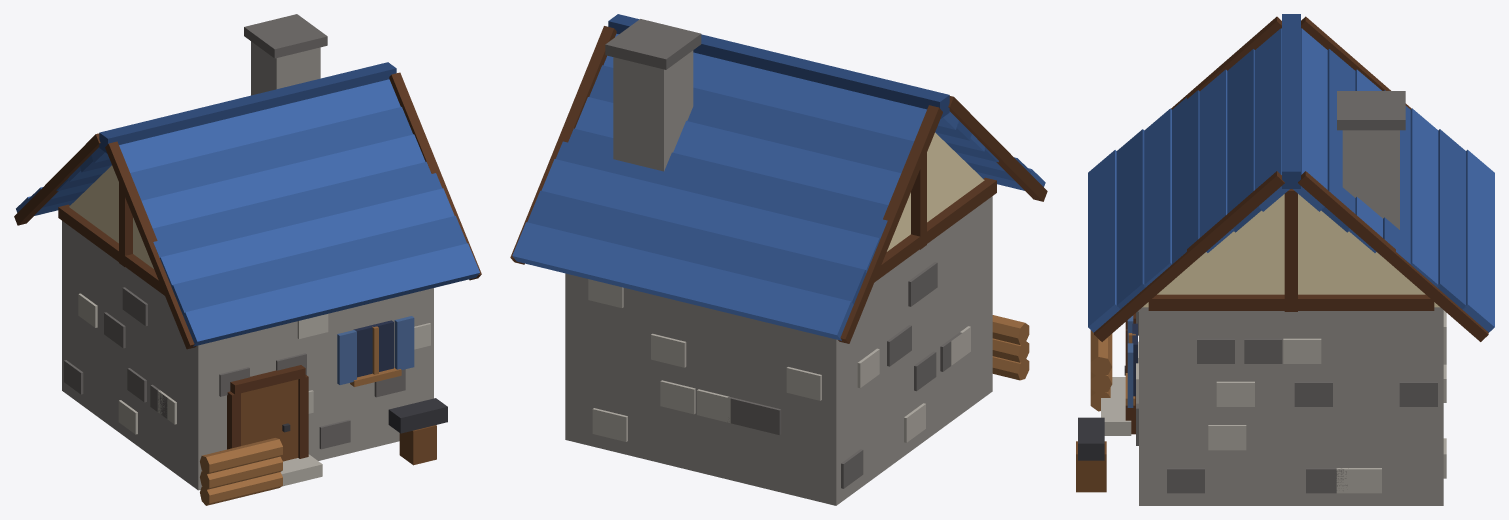
The model's file is workshop.glb.
3 views of the same model, side by side, from view 1: azimuth 30°, elevation 25°; view 2: azimuth 150°, elevation 25°; view 3: azimuth 270°, elevation 25° (orthographic). The views are drawn at different scales.
Visible parts, largest first — view 1: stone, roof_blue, roof_blue_mid, timber, stone_dark, ridge, plank, plank_dark, stone_light, plaster, shutter_blue, iron (+1 smaller); view 2: stone, roof_blue, roof_blue_mid, timber, stone_dark, stone_light, ridge, plaster, plank; view 3: stone, roof_blue, roof_blue_mid, timber, plaster, stone_dark, stone_light, ridge, plank, iron, plank_dark, shutter_blue.
Part boxes in pixels (x1,y1,x2,y2): stone: (62, 41, 433, 490); roof_blue: (16, 79, 479, 346); roof_blue_mid: (28, 107, 466, 314); timber: (14, 72, 481, 458); stone_dark: (64, 14, 405, 450); ridge: (99, 62, 396, 153); plank: (200, 326, 401, 505); plank_dark: (241, 379, 436, 465); stone_light: (78, 293, 430, 486); plaster: (69, 165, 153, 268); shutter_blue: (337, 316, 414, 384); iron: (282, 398, 447, 433); stone: (565, 50, 992, 505); roof_blue: (512, 33, 1045, 340); roof_blue_mid: (527, 65, 1031, 304); timber: (510, 26, 1047, 343); stone_dark: (605, 19, 961, 488); stone_light: (588, 279, 970, 442); ridge: (608, 14, 949, 118); plaster: (887, 132, 984, 251); plank: (992, 315, 1029, 380); stone: (1139, 130, 1443, 505); roof_blue: (1088, 28, 1494, 332); roof_blue_mid: (1116, 49, 1465, 309); timber: (1094, 16, 1488, 434); plaster: (1142, 194, 1439, 307); stone_dark: (1136, 91, 1437, 493); stone_light: (1101, 310, 1446, 493); ridge: (1282, 14, 1300, 188); plank: (1090, 330, 1135, 411); iron: (1078, 365, 1125, 460); plank_dark: (1076, 441, 1106, 492); shutter_blue: (1127, 315, 1133, 407).
Bounding box in the file's own units: 1.98 × 2.18 × 2.2.
